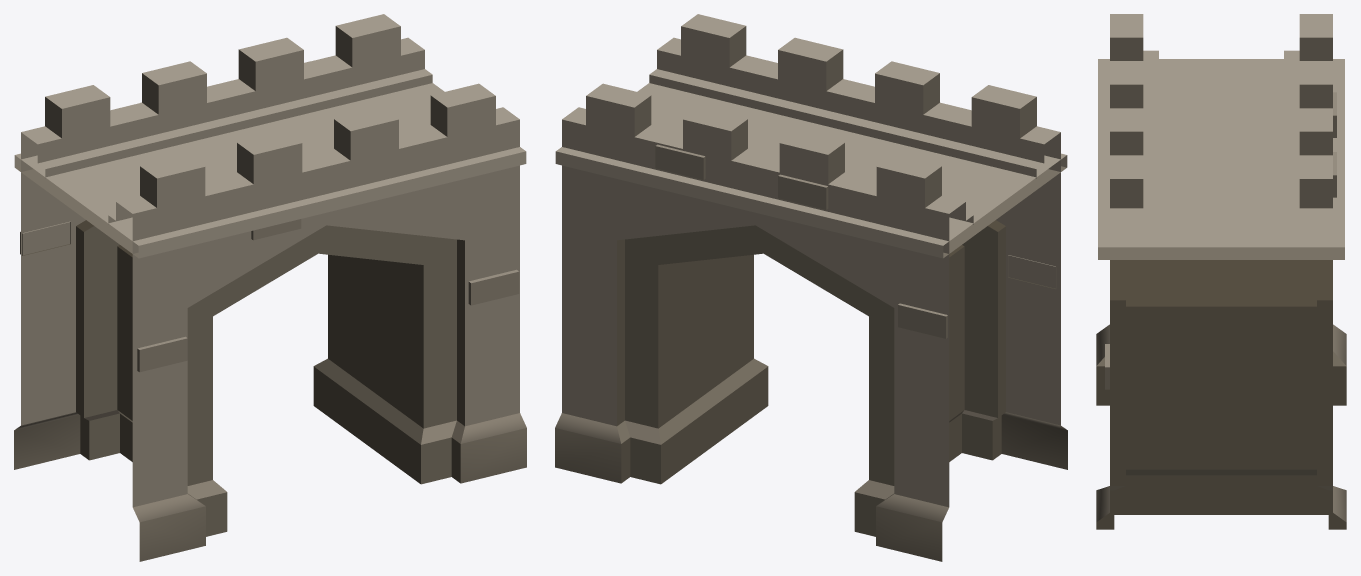
Rendered from SF_Bld_Castle_Wall_03.fbx.
The picture shows the model from 3 angles, left to right: view 1: azimuth 30°, elevation 25°; view 2: azimuth 150°, elevation 25°; view 3: azimuth 270°, elevation 25°; orthographic projection.
Parts seen in each view (by area): view 1: SF_Bld_Castle_Wall_03; view 2: SF_Bld_Castle_Wall_03; view 3: SF_Bld_Castle_Wall_03.
Part boxes in pixels (<box>): SF_Bld_Castle_Wall_03: <box>14,14,526,561</box>; SF_Bld_Castle_Wall_03: <box>555,14,1067,561</box>; SF_Bld_Castle_Wall_03: <box>1096,14,1346,529</box>.
Size of the model in its own units: 10 by 9.19 by 5.62.
